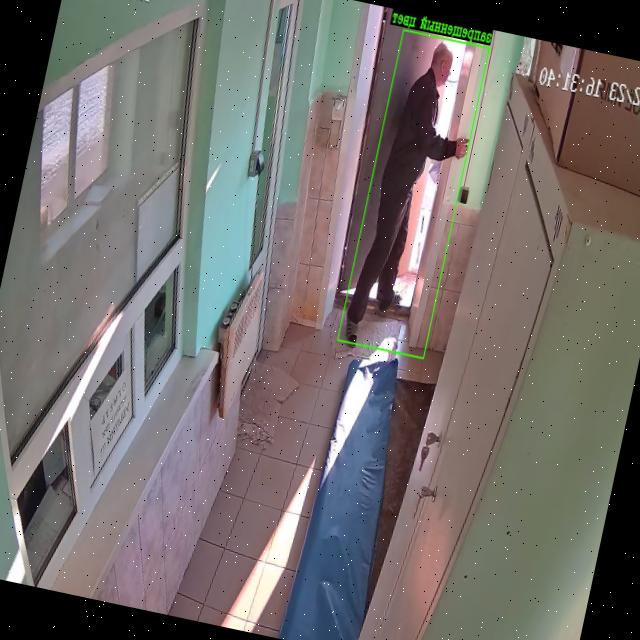Person: (346, 42, 468, 342)
